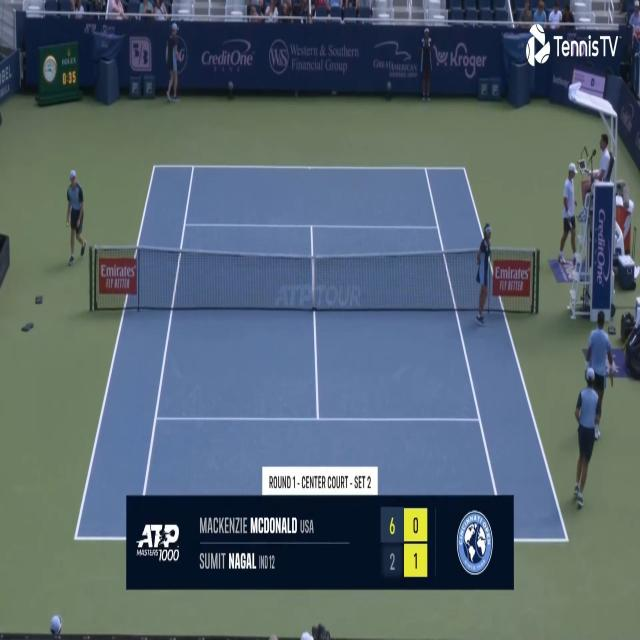tennis-player: (582, 306, 616, 439), (559, 154, 580, 270)
